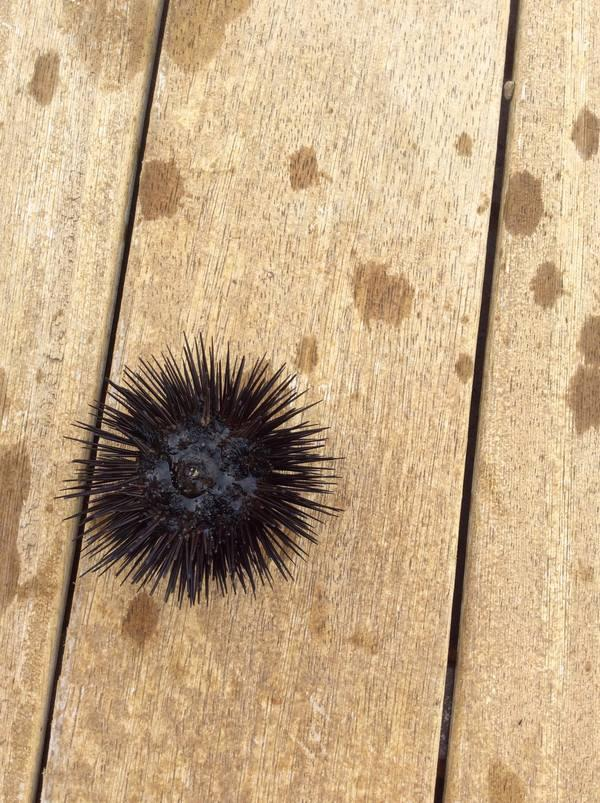urchin: (46, 325, 348, 610)
